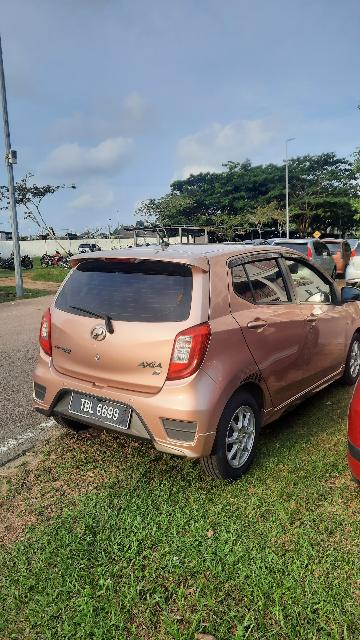License_Plate: (66, 386, 139, 434)
car: (22, 250, 360, 479)
